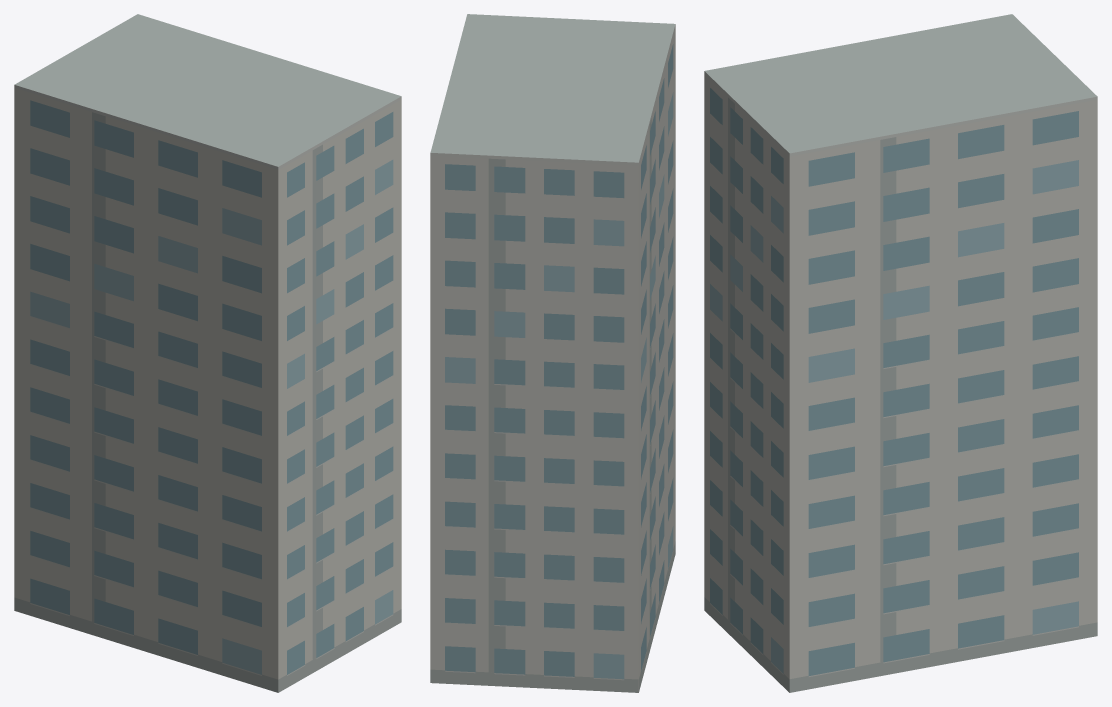
File: residential-572cf856-ed96-46ba-9b86-b9734184832a.glb
3 views of the same model, side by side, from view 1: azimuth 30°, elevation 25°; view 2: azimuth 150°, elevation 25°; view 3: azimuth 270°, elevation 25° (orthographic). The views are drawn at different scales.
Visible parts, largest first — view 1: residential-572cf856-ed96-46ba-9b86-b9734184832a.tmp; view 2: residential-572cf856-ed96-46ba-9b86-b9734184832a.tmp; view 3: residential-572cf856-ed96-46ba-9b86-b9734184832a.tmp.
Boxes of the visible parts, <box> form: residential-572cf856-ed96-46ba-9b86-b9734184832a.tmp: <box>14,14,401,692</box>; residential-572cf856-ed96-46ba-9b86-b9734184832a.tmp: <box>430,14,675,692</box>; residential-572cf856-ed96-46ba-9b86-b9734184832a.tmp: <box>704,14,1097,692</box>.
Bounding box in the file's own units: 22.74 × 41 × 27.11.
